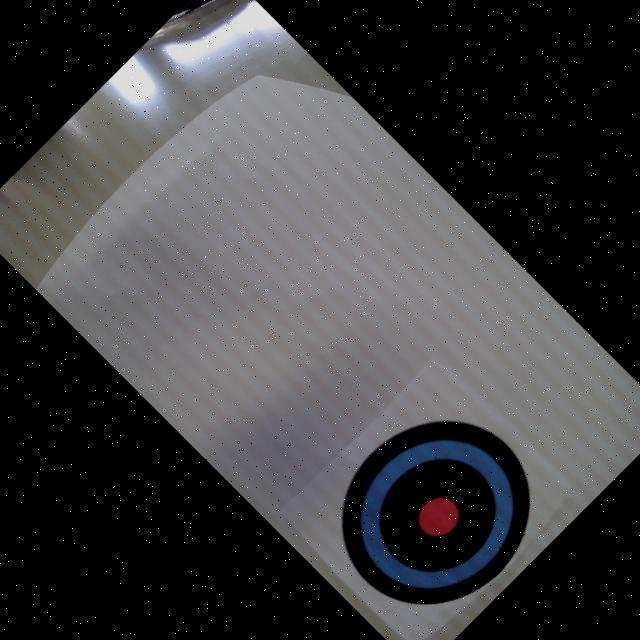COGNITIVE: (303, 381, 567, 640)
